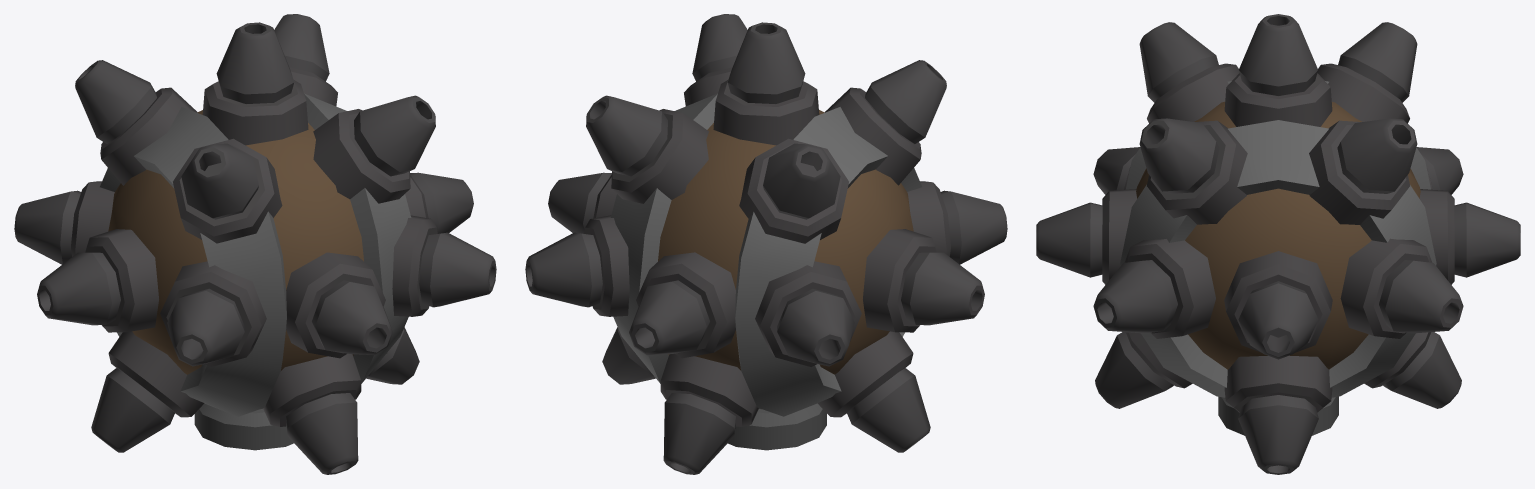
File: Bubble_t_2_LP.fbx
3 renders of one model, left to right at view 1: azimuth 30°, elevation 25°; view 2: azimuth 150°, elevation 25°; view 3: azimuth 270°, elevation 25°, orthographic.
Parts seen in each view (by area): view 1: Bubble_t_2; view 2: Bubble_t_2; view 3: Bubble_t_2.
Boxes of the visible parts, x1,y1,x2,y2 form: Bubble_t_2: (14,14,496,474); Bubble_t_2: (525,14,1007,474); Bubble_t_2: (1036,14,1520,474).
Bounding box in the file's own units: 162 × 146 × 162.
